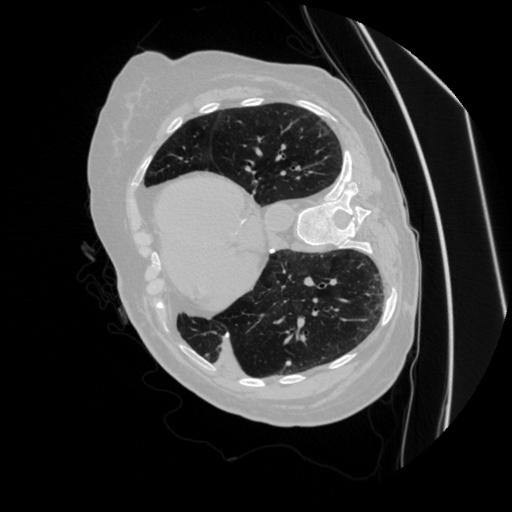nodule: (282, 358, 294, 370)
